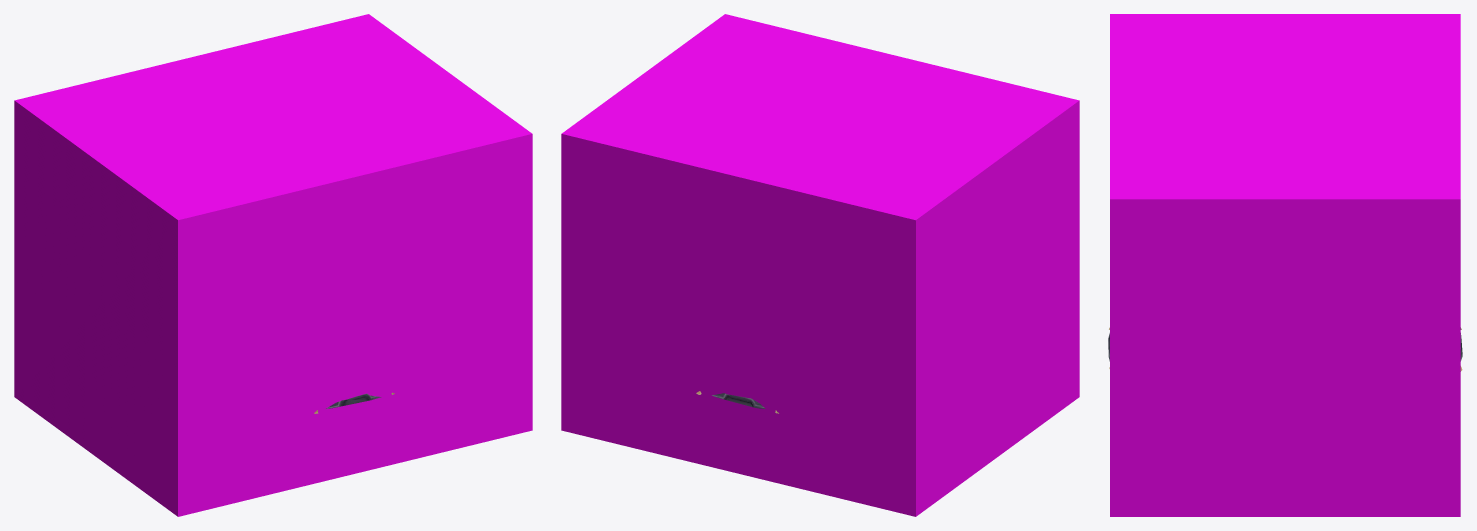
File: prop_transformer.glb
3 renders of one model, left to right at view 1: azimuth 30°, elevation 25°; view 2: azimuth 150°, elevation 25°; view 3: azimuth 270°, elevation 25°, orthographic. The views are drawn at different scales.
Visible parts, largest first — view 1: prop_transformer_col; view 2: prop_transformer_col; view 3: prop_transformer_col.
Boxes of the visible parts, bbox=[...] form: prop_transformer_col: bbox=[14, 14, 532, 516]; prop_transformer_col: bbox=[561, 14, 1079, 516]; prop_transformer_col: bbox=[1110, 14, 1460, 516].
Size of the model in its own units: 2 by 1.6 by 1.62.
Materials: 2 (1 with a texture image).
